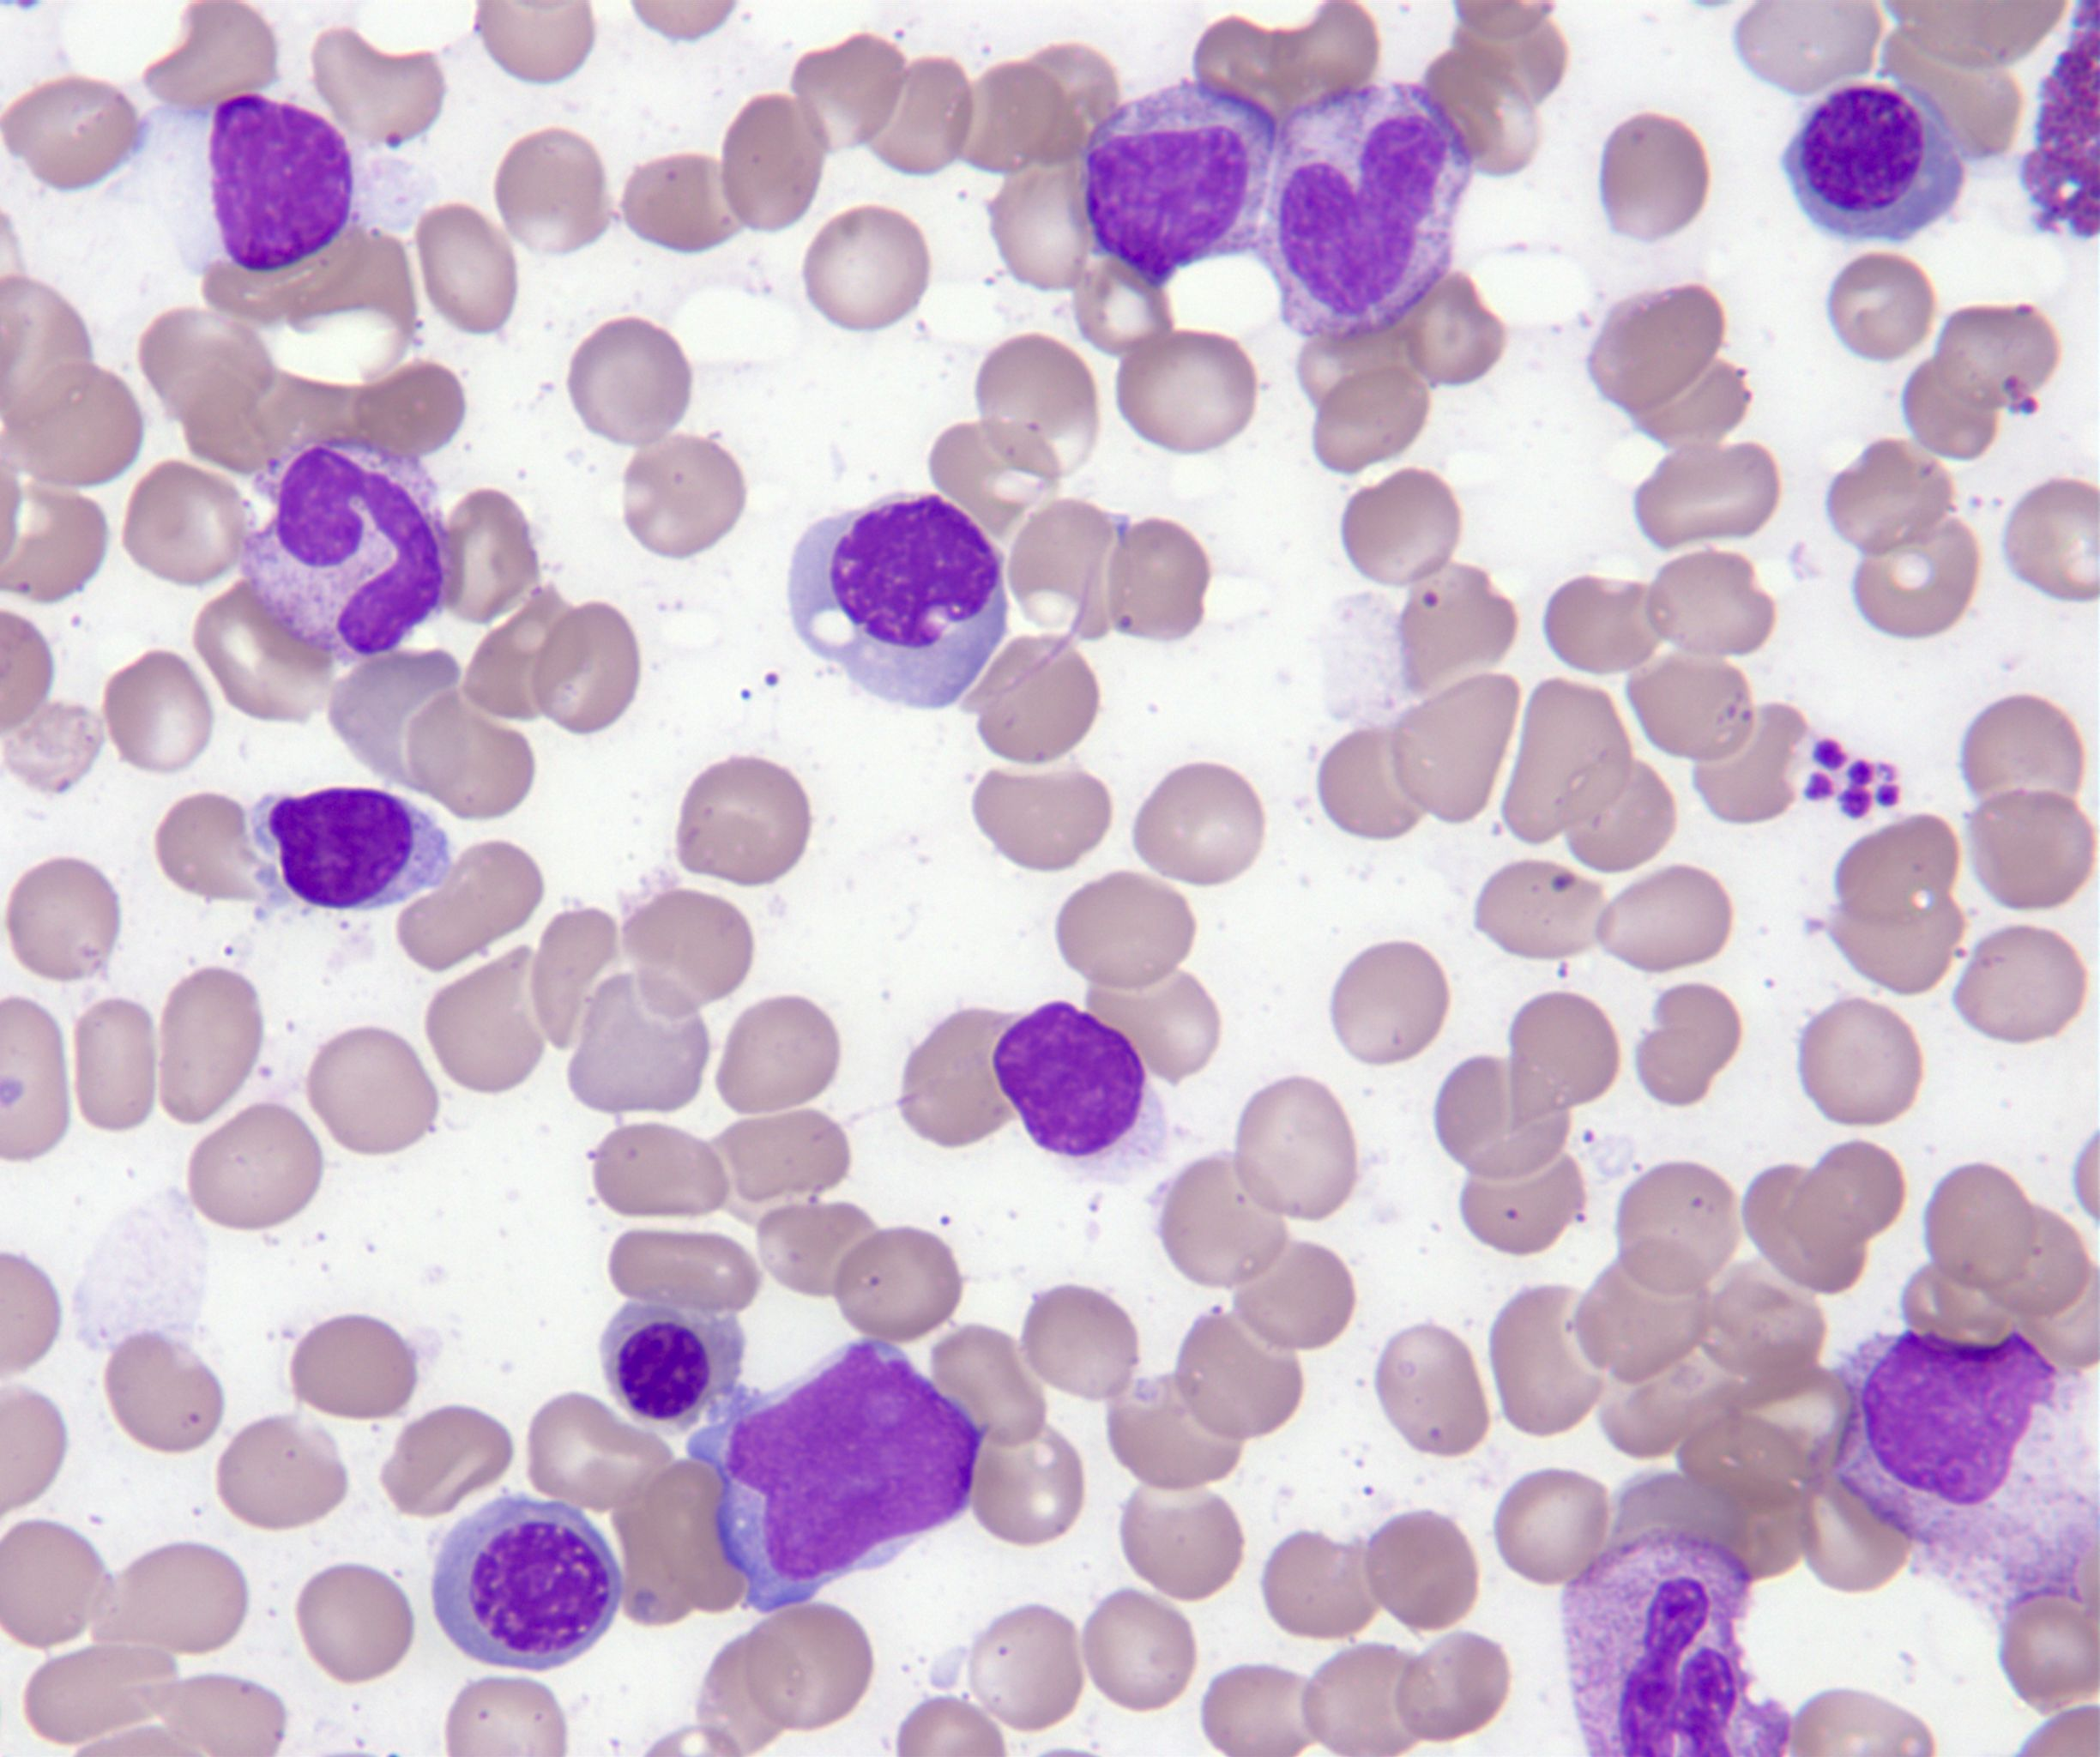1: (684, 1338, 982, 1614)
23: (788, 494, 1008, 712), (433, 1495, 619, 1670), (1783, 75, 1966, 246)
24: (600, 1303, 743, 1432)
3: (1807, 1326, 2100, 1626), (1083, 80, 1282, 288)
32: (136, 94, 427, 277), (249, 789, 452, 913)
4: (1252, 85, 1470, 337)
5: (241, 436, 452, 660)
x: (1563, 1534, 1793, 1757), (994, 1002, 1169, 1183)
